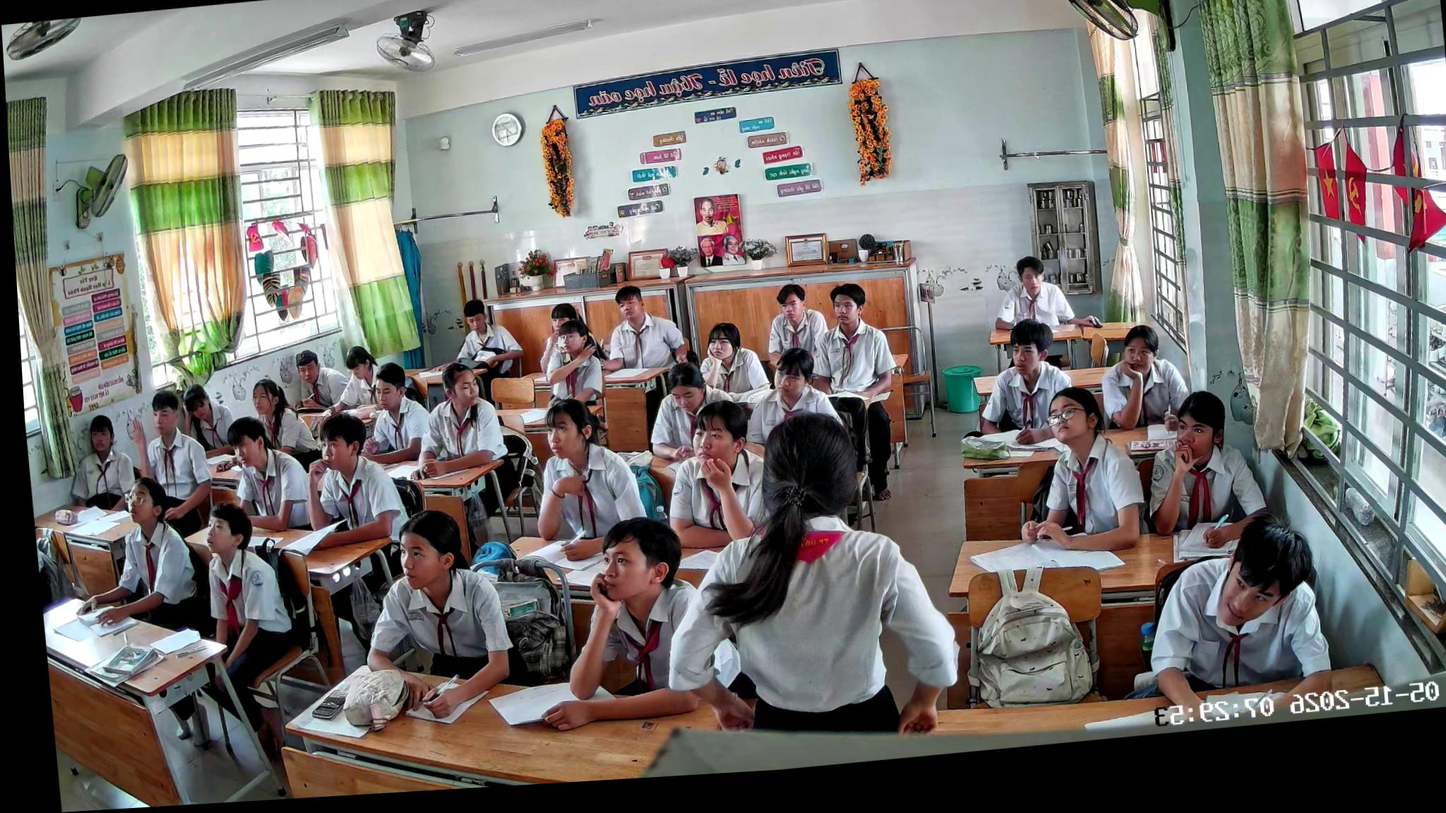person: (644, 401, 966, 758), (524, 508, 752, 735), (1113, 506, 1338, 716), (353, 502, 522, 727), (299, 406, 423, 652), (65, 471, 214, 653), (195, 498, 303, 744), (1003, 382, 1150, 559), (800, 279, 912, 508), (1135, 386, 1272, 554), (523, 393, 649, 565), (660, 398, 775, 555), (969, 316, 1076, 449), (126, 389, 218, 541), (409, 357, 511, 479), (1093, 320, 1197, 439), (739, 345, 846, 458), (226, 410, 316, 535), (640, 357, 741, 467), (988, 249, 1104, 337), (594, 279, 695, 377), (356, 358, 435, 467), (63, 412, 140, 515), (243, 374, 317, 470), (694, 320, 771, 408), (449, 295, 526, 383), (538, 317, 608, 411), (760, 280, 831, 369), (182, 381, 240, 458), (291, 346, 352, 415), (332, 343, 383, 411), (533, 301, 581, 373)
